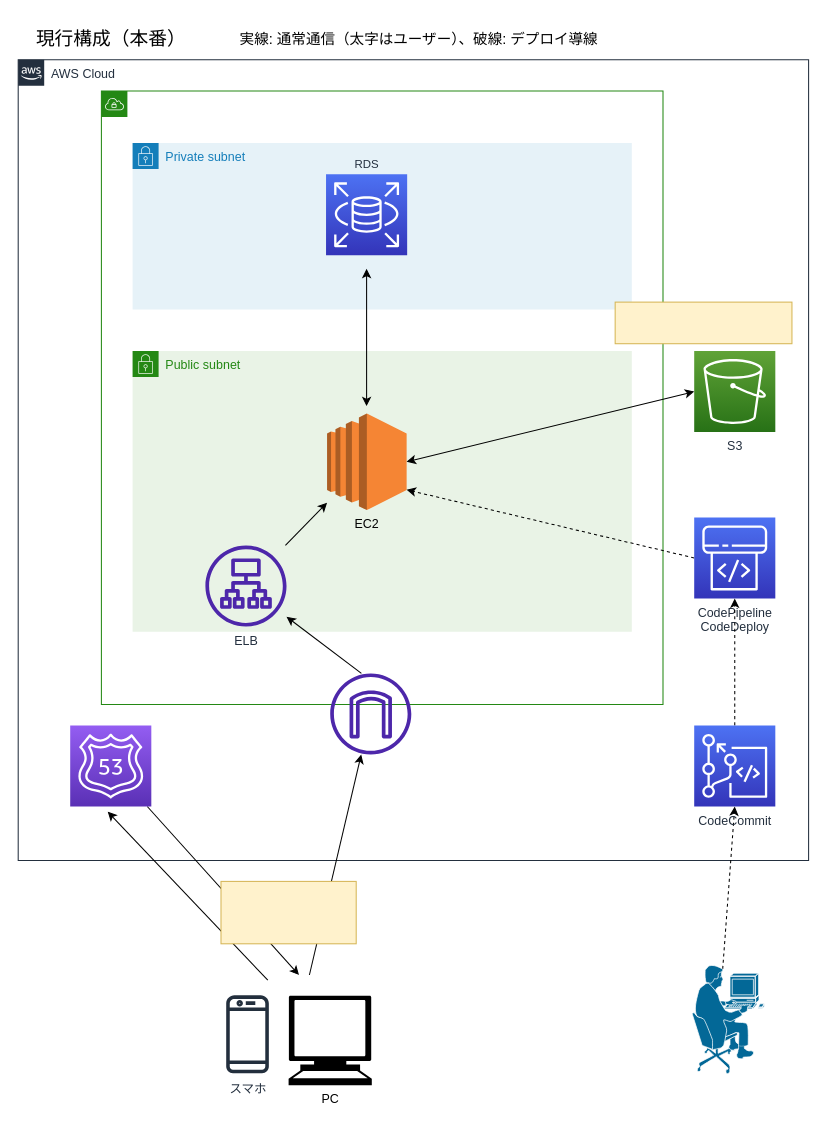
The diagram is 827 pixels wide and 1124 high, and some of its shapes have lost their labels. The shapes that lost their labels are listed below. From the top down, each one's box as (x1, y1, x2, y2) in pixels, then its label:
(614, 301, 792, 344): PDFアップロード
(100, 90, 663, 705): VPC
(330, 673, 411, 754): InternetGateway
(69, 724, 151, 807): Roure53
(220, 880, 356, 944): mcirドメイン でアクセス
(691, 963, 765, 1075): Developper
